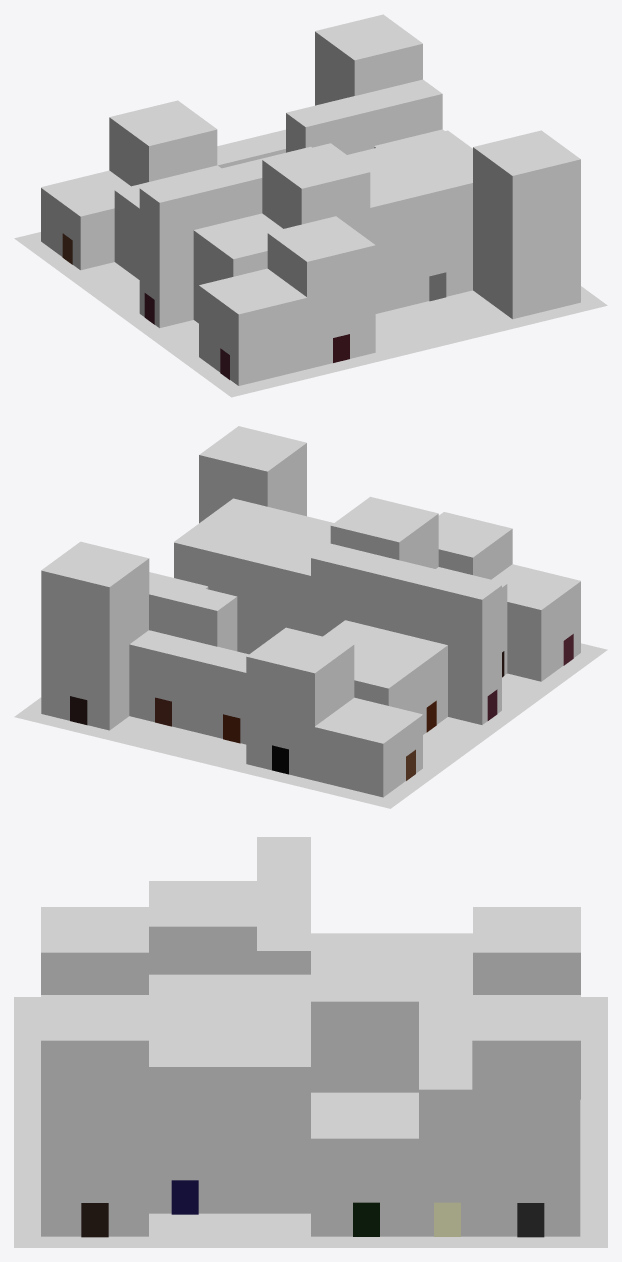
Rendered from town-block.fbx.
3 views of the same model, one above another, from view 1: azimuth 30°, elevation 25°; view 2: azimuth 150°, elevation 25°; view 3: azimuth 270°, elevation 25° (orthographic). The views are drawn at different scales.
Parts seen in each view (by area): view 1: Cube.002, Plane, Cube.001, Cube.005, Cube.008, Cube.006, Plane.018, Cube.010, Cube.011, Cube.004, Cube.012, Cube.013 (+14 smaller); view 2: Cube.005, Plane, Cube.004, Cube, Cube.001, Cube.002, Plane.018, Cube.007, Cube.012, Cube.008, Cube.011, Cube.013 (+8 smaller); view 3: Plane, Cube.002, Cube.007, Cube.001, Cube.004, Plane.018, Cube.008, Cube.005, Cube.003, Cube.010, Plane.026, Plane.019 (+16 smaller).
Part boxes in pixels (x1,y1,x2,y2): Cube.002: (473,130,580,319); Plane: (14,232,607,397); Cube.001: (370,182,472,313); Cube.005: (139,164,262,328); Cube.008: (262,143,370,240); Cube.006: (267,233,375,369); Plane.018: (347,130,472,206); Cube.010: (286,94,442,154); Cube.011: (199,285,306,385); Cube.004: (315,31,422,105); Cube.012: (109,117,217,186); Cube.013: (41,187,114,270); Cube.005: (311,543,501,724); Plane: (14,643,607,808); Cube.004: (41,558,149,730); Cube: (129,630,248,744); Cube.001: (174,542,310,654); Cube.002: (199,426,306,523); Plane.018: (174,498,333,574); Cube.007: (323,620,447,734); Cube.012: (246,644,354,780); Cube.008: (330,496,438,568); Cube.011: (507,581,580,681); Cube.013: (315,715,422,797); Plane: (14,997,607,1247); Cube.002: (41,995,148,1236); Cube.007: (311,933,472,1092); Cube.001: (149,1066,310,1213); Cube.004: (472,995,580,1236); Plane.018: (149,974,310,1065); Cube.008: (149,881,256,974); Cube.005: (257,837,310,974); Cube.003: (311,1138,418,1236); Cube.010: (419,1089,472,1236); Plane.026: (311,1092,418,1138); Plane.019: (419,998,472,1089).
Size of the model in its own units: 1100 by 402 by 1100.
